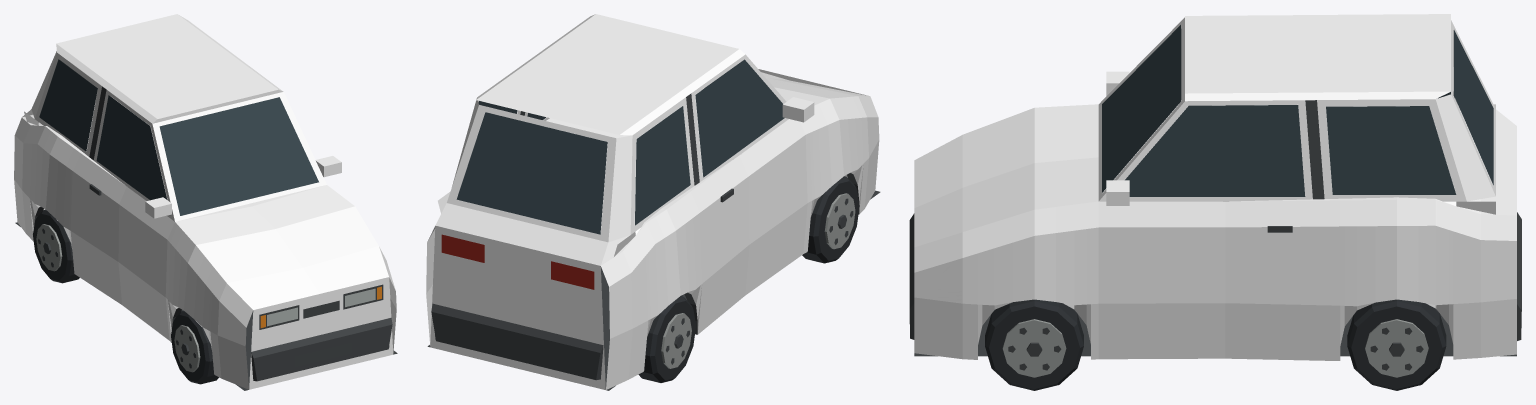
The model's file is tomoe_kogarashi_97.glb.
The picture shows the model from 3 angles, left to right: view 1: azimuth 30°, elevation 25°; view 2: azimuth 150°, elevation 25°; view 3: azimuth 270°, elevation 25°; orthographic projection. The views are drawn at different scales.
Visible parts, largest first — view 1: tomoe_kogarashi_97; view 2: tomoe_kogarashi_97; view 3: tomoe_kogarashi_97.
Part boxes in pixels (x1,y1,x2,y2): tomoe_kogarashi_97: (14,14,397,390); tomoe_kogarashi_97: (426,14,880,390); tomoe_kogarashi_97: (909,14,1521,390).
Bounding box in the file's own units: 1.47 × 1.62 × 3.16.
Materials: 8 (1 with a texture image).
